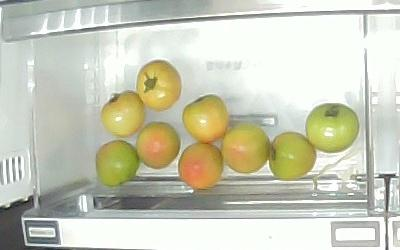tomato: (304, 103, 358, 153), (221, 125, 271, 174), (182, 95, 230, 144), (268, 132, 316, 181), (136, 60, 182, 111), (178, 142, 223, 190), (99, 91, 145, 137), (96, 140, 139, 187), (137, 121, 179, 169)
